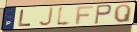F: (75, 5, 94, 25)
J: (38, 7, 55, 27)
L: (55, 5, 72, 27), (18, 9, 33, 27)
P: (94, 4, 113, 25)
Q: (113, 4, 133, 23)
